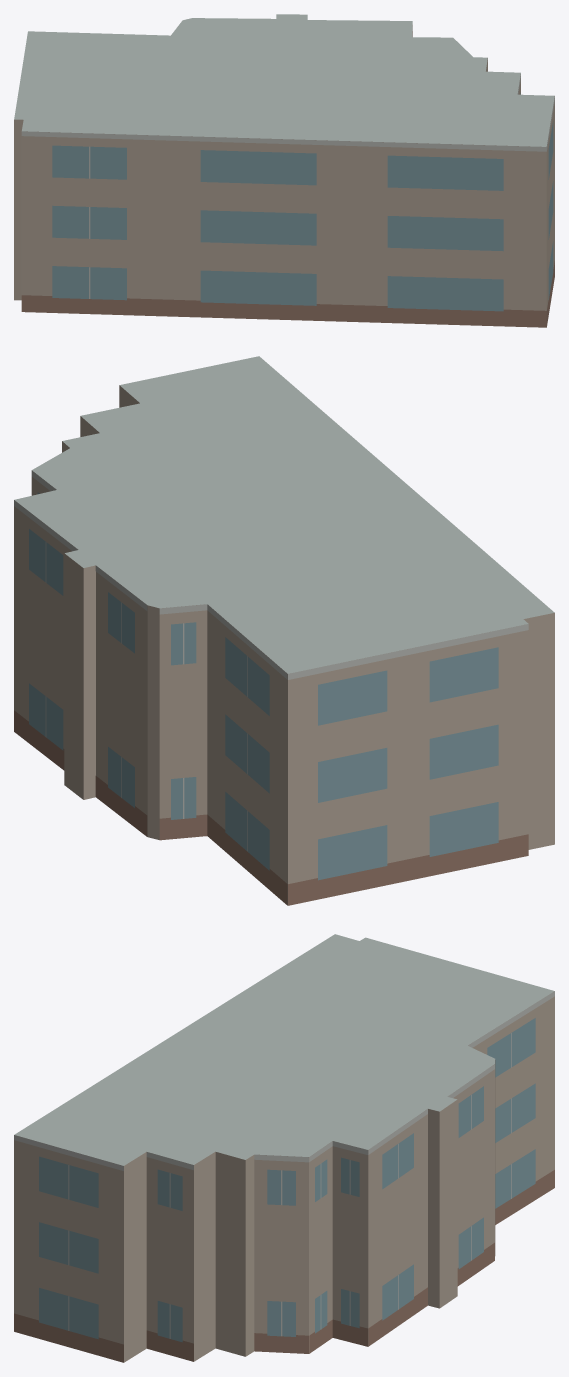
The model's file is survey-upis-32954048.glb.
3 views of the same model, one above another, from view 1: azimuth 30°, elevation 25°; view 2: azimuth 150°, elevation 25°; view 3: azimuth 270°, elevation 25° (orthographic). The views are drawn at different scales.
Parts seen in each view (by area): view 1: survey-upis-32954048.tmp; view 2: survey-upis-32954048.tmp; view 3: survey-upis-32954048.tmp.
Boxes of the visible parts, x1=… form: survey-upis-32954048.tmp: x1=14, y1=14, x2=554, y2=327; survey-upis-32954048.tmp: x1=14, y1=356, x2=554, y2=905; survey-upis-32954048.tmp: x1=14, y1=934, x2=554, y2=1362.
Bounding box in the file's own units: 23.12 × 9.15 × 22.79.
